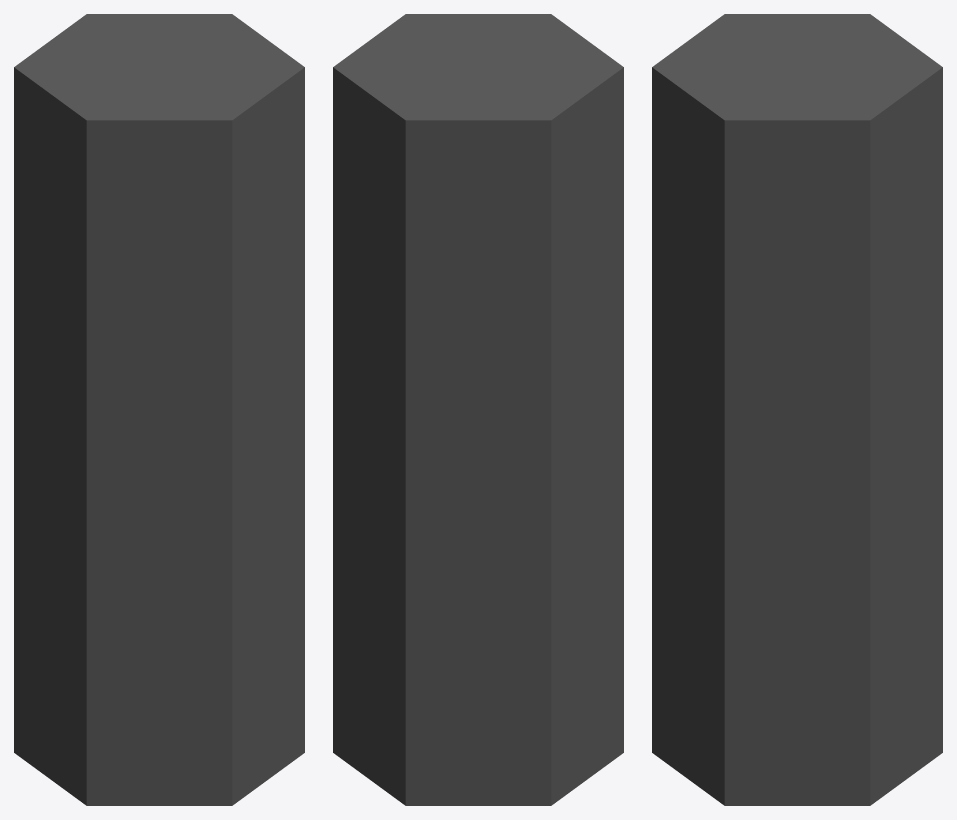
File: pilar3.obj
The picture shows the model from 3 angles, left to right: view 1: azimuth 30°, elevation 25°; view 2: azimuth 150°, elevation 25°; view 3: azimuth 270°, elevation 25°; orthographic projection.
Parts seen in each view (by area): view 1: Cylinder.008; view 2: Cylinder.008; view 3: Cylinder.008.
Boxes of the visible parts, x1,y1,x2,y2 form: Cylinder.008: [14, 14, 304, 805]; Cylinder.008: [333, 14, 623, 805]; Cylinder.008: [652, 14, 942, 805].
Bounding box in the file's own units: 1.73 × 5.2 × 2.
1 material, 1 textured.
